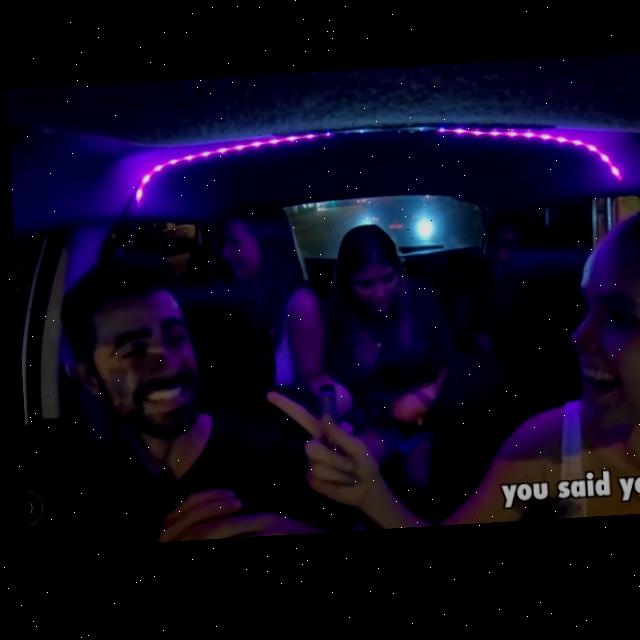vape: (312, 387, 333, 426)
